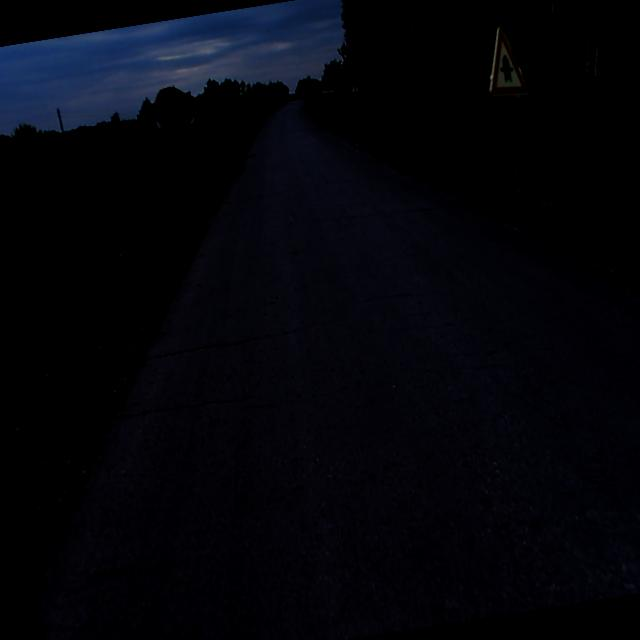road: (39, 99, 640, 640)
